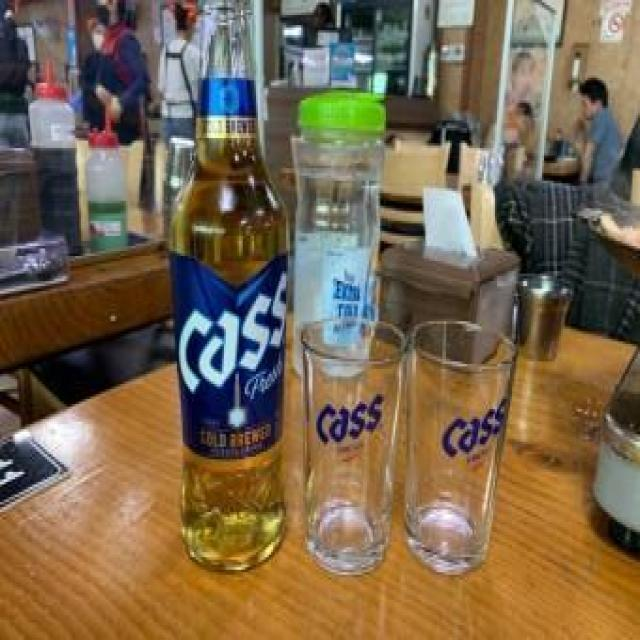beer-bottle: (176, 0, 308, 572)
